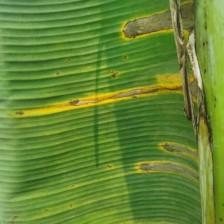pestalotiopsis: (0, 0, 206, 224)
